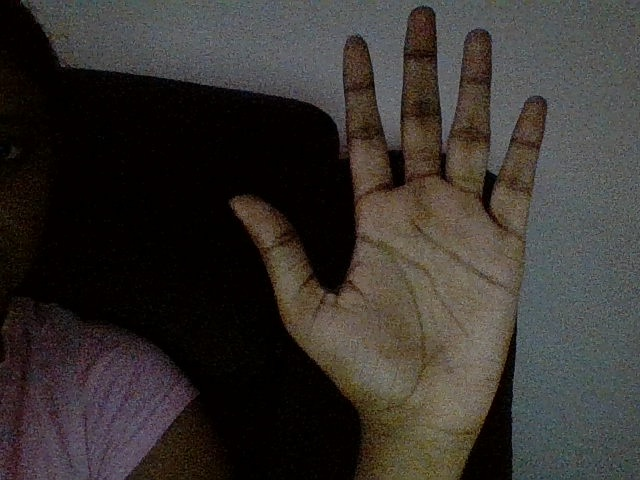Hello: (205, 2, 578, 435)
